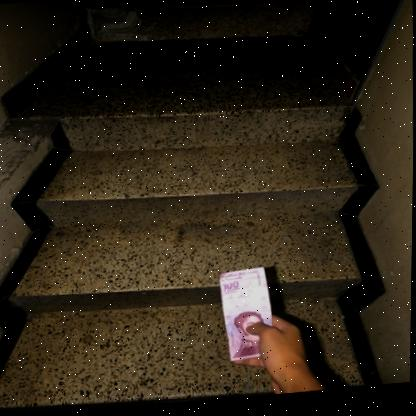one_hundred-front-vef: (218, 269, 275, 367)
